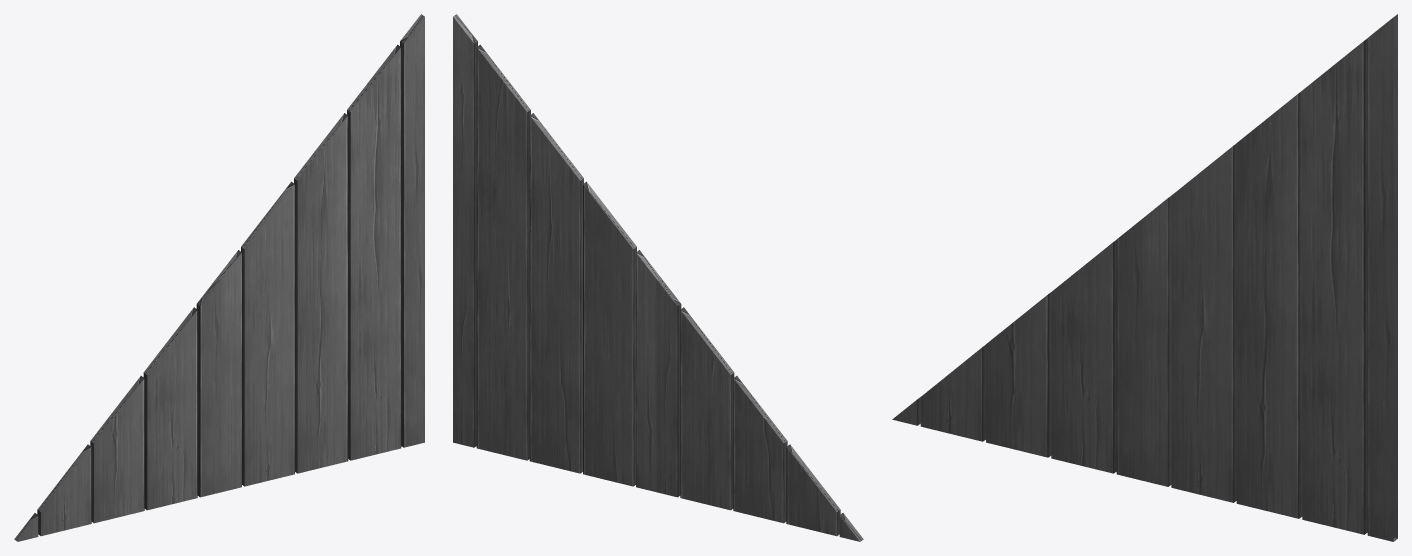
The model's file is WallPlankTriangle02.fbx.
The picture shows the model from 3 angles, left to right: view 1: azimuth 30°, elevation 25°; view 2: azimuth 150°, elevation 25°; view 3: azimuth 330°, elevation 25°; orthographic projection. The views are drawn at different scales.
Parts seen in each view (by area): view 1: WallPlankTriangle02_LOD0; view 2: WallPlankTriangle02_LOD0; view 3: WallPlankTriangle02_LOD0.
Part boxes in pixels (x1=…): WallPlankTriangle02_LOD0: x1=14, y1=14, x2=424, y2=541; WallPlankTriangle02_LOD0: x1=453, y1=14, x2=863, y2=541; WallPlankTriangle02_LOD0: x1=892, y1=14, x2=1397, y2=541.
Size of what is drawn, in the model's own units: 2 by 2 by 0.0306.
